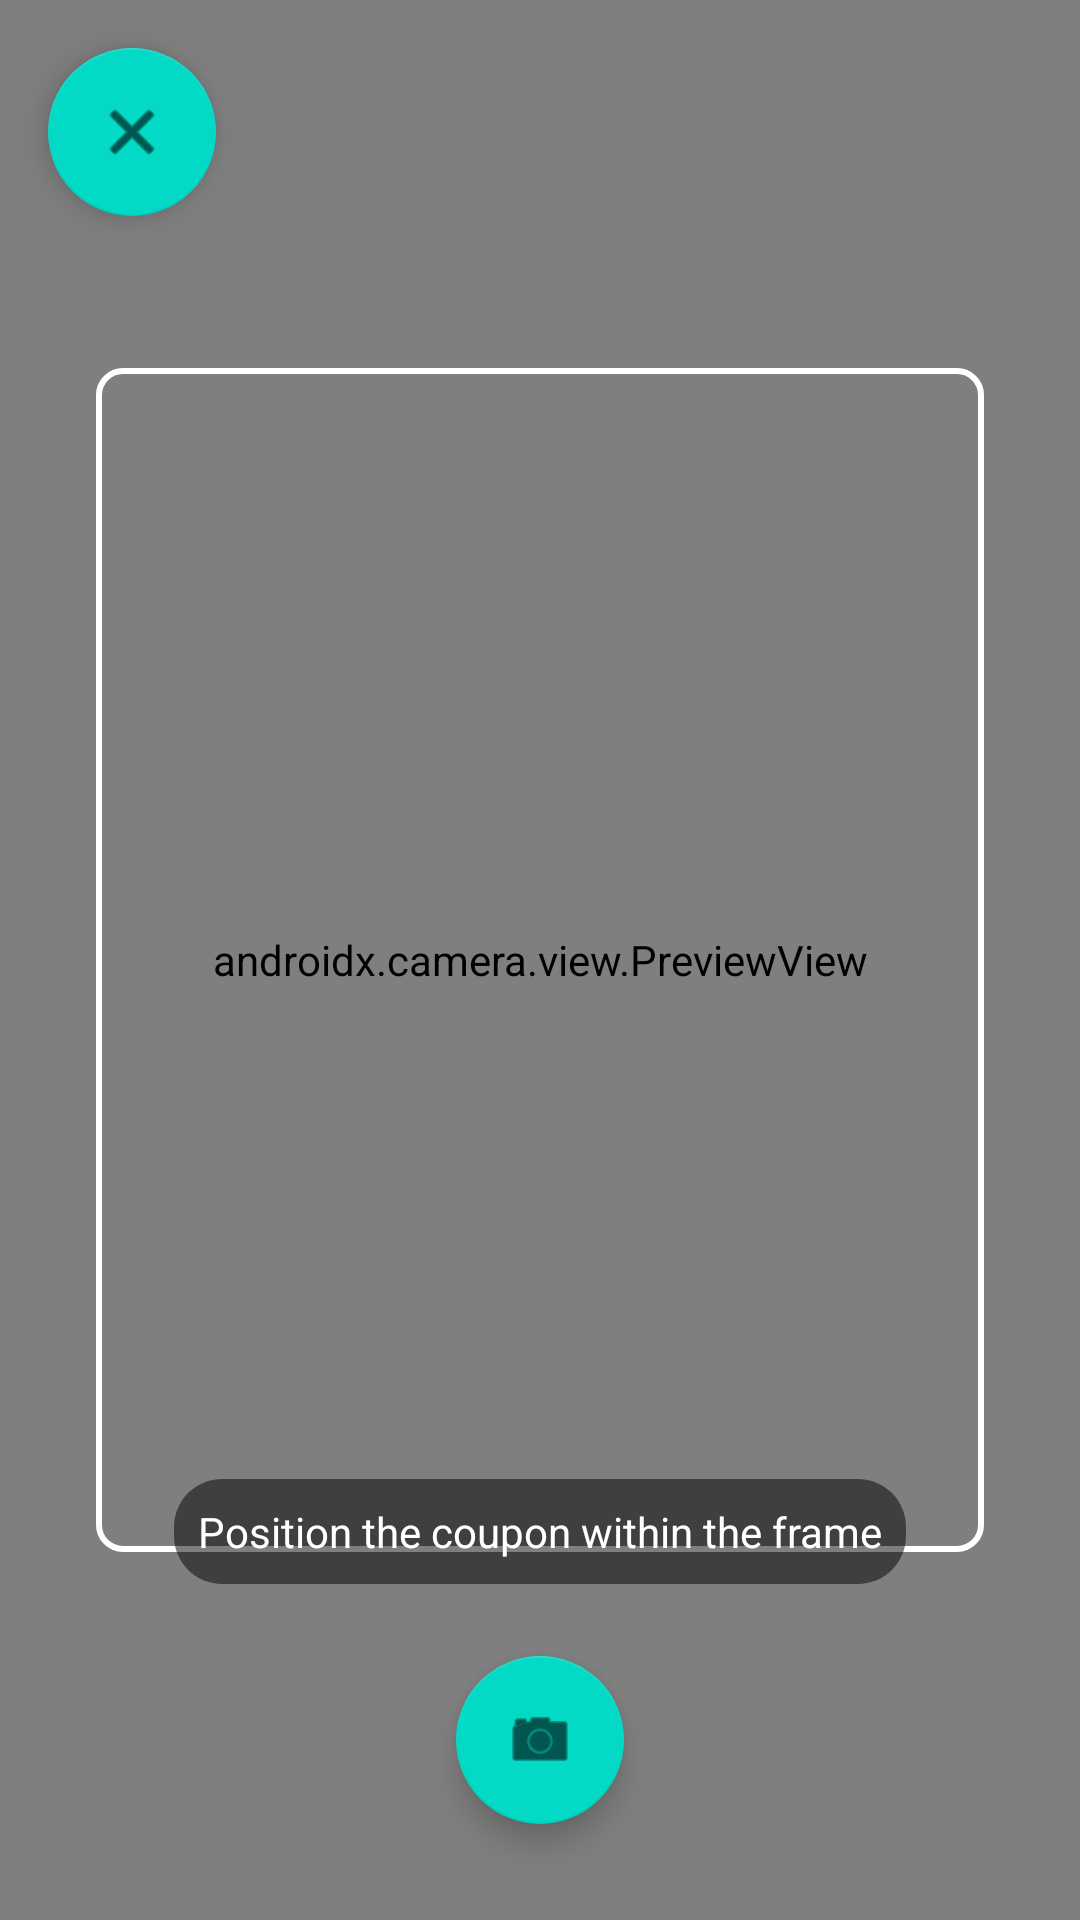

Point at icon controls on the screen. Image size 1080×1920, points as (x,y).
Capture image: (540,1740)
Close scanner: (132,132)
